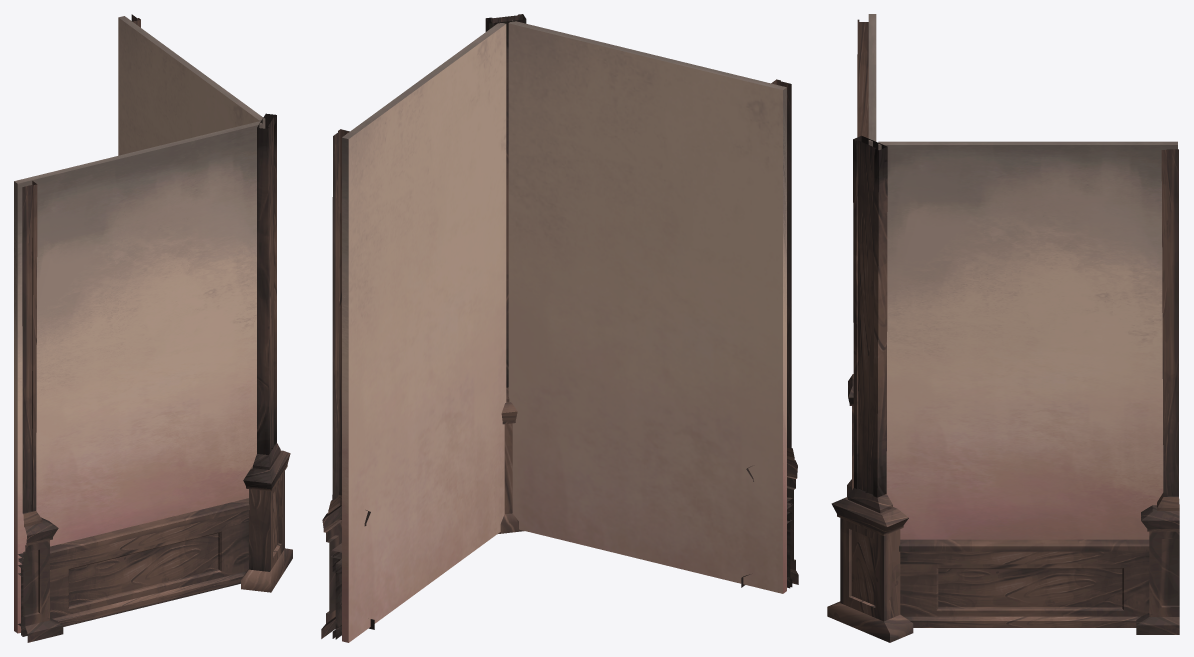
Rendered from Wall_Bot_OuterCorner_V1.fbx.
The picture shows the model from 3 angles, left to right: view 1: azimuth 30°, elevation 25°; view 2: azimuth 150°, elevation 25°; view 3: azimuth 270°, elevation 25°; orthographic projection. The views are drawn at different scales.
Parts seen in each view (by area): view 1: Outer_Corner_Wall_Bot; view 2: Outer_Corner_Wall_Bot; view 3: Outer_Corner_Wall_Bot.
Part boxes in pixels (box(x1,y1,x2,y2)): Outer_Corner_Wall_Bot: box(14, 14, 292, 642); Outer_Corner_Wall_Bot: box(321, 14, 798, 642); Outer_Corner_Wall_Bot: box(827, 14, 1179, 642).
Bounding box in the file's own units: 0.0279 × 0.0423 × 0.028.
